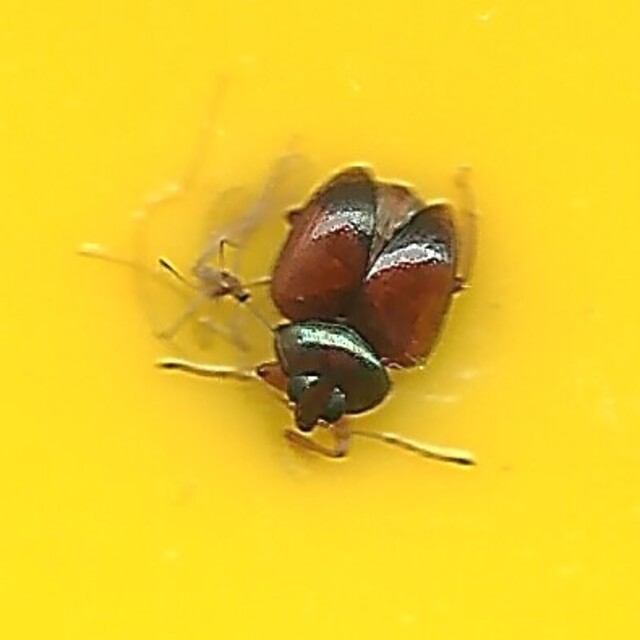Coleoptera: (162, 168, 478, 472)
